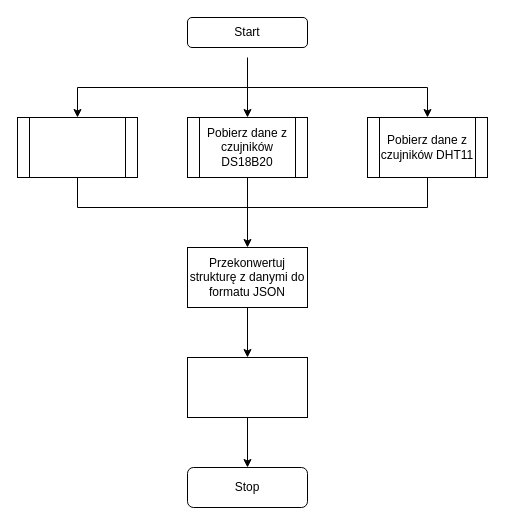
The diagram is 505 pixels wide and 525 high, and some of its shapes have lost their labels. The shapes that lost their labels are listed below. From the top down, each one's centre as x and y in pixels, then its label:
At (x=77, y=147): "Pobierz dane z czujników analogowych".
At (x=247, y=387): "Wyślij dane w postacji JSON do brokera mqtt".
